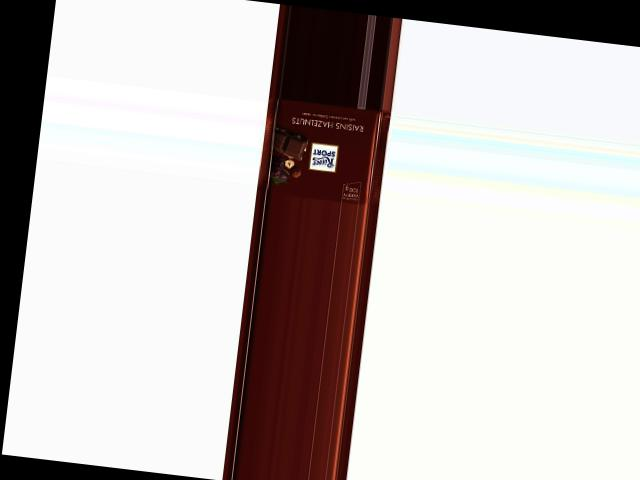chocolate: (254, 96, 391, 206)
